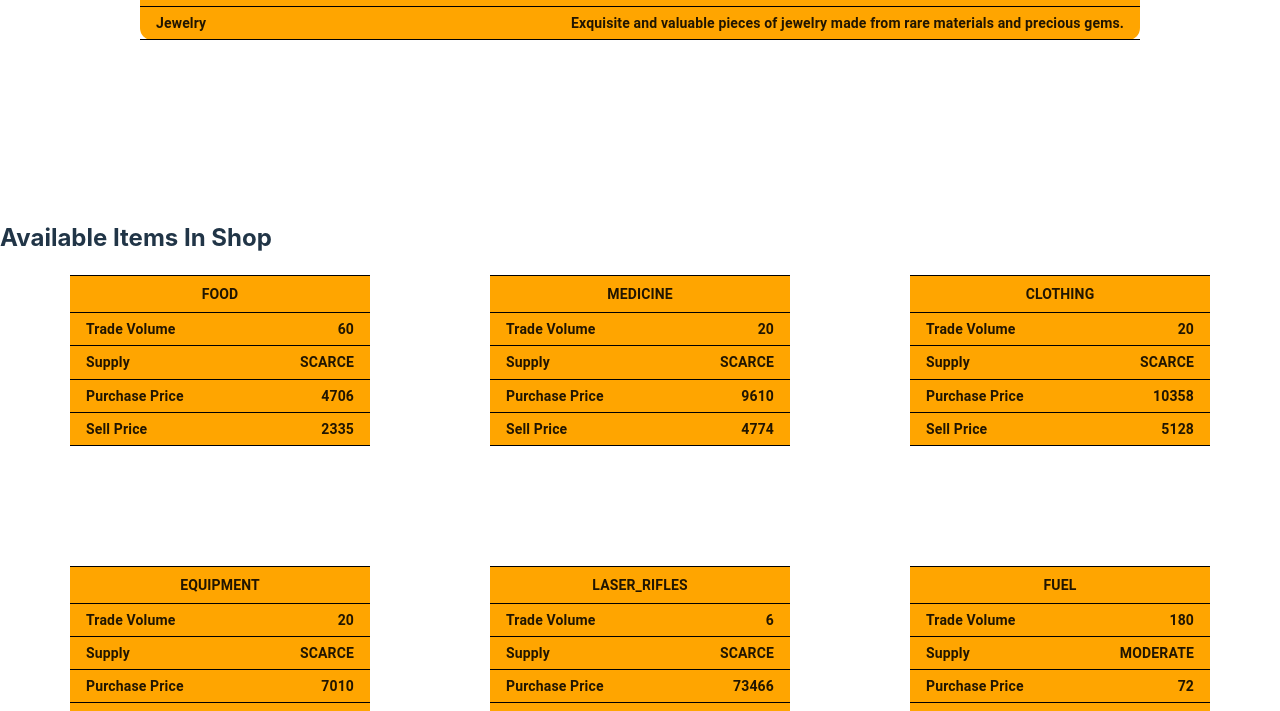
Test case: Should error when trying to buy over the cargo limit
This screenshot has width=1280, height=711.
(page scrolled)
Click the element with test id "market-item-FOOD" at [220, 361], box [70, 276, 370, 446]
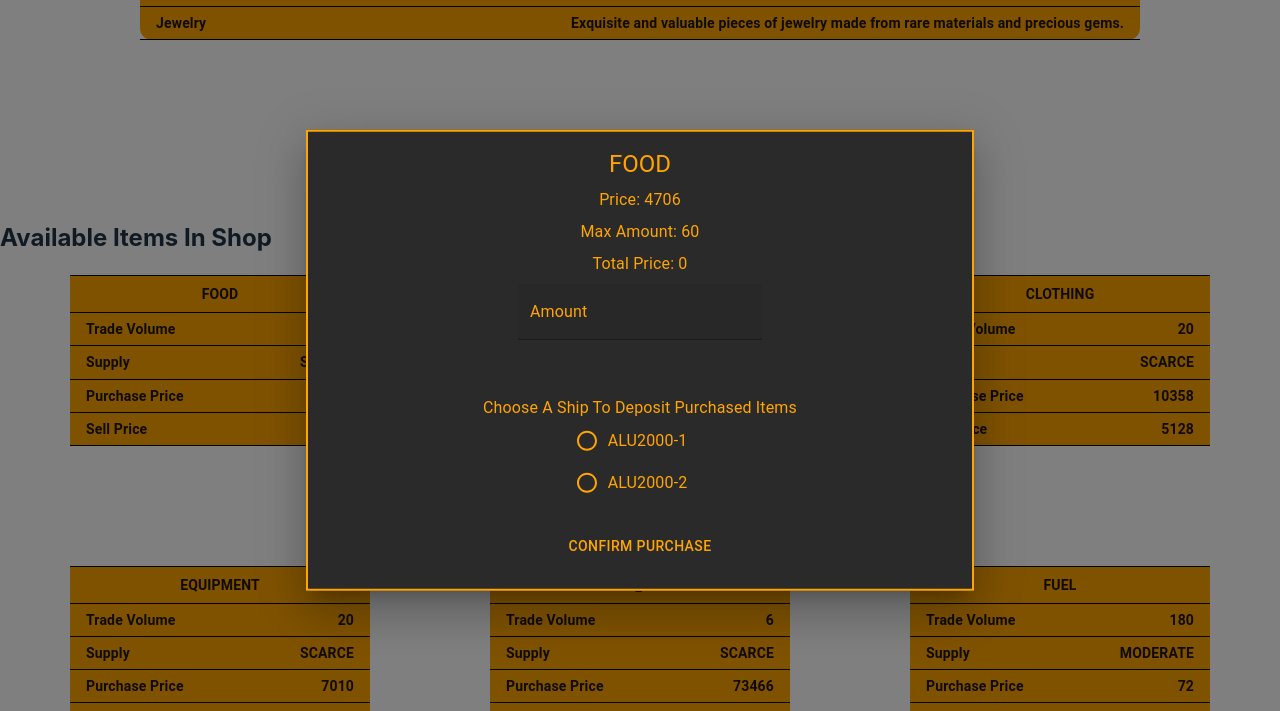
Now the text "Price: 4706" is shown, box [599, 188, 681, 212]
Now the text "Max Amount: 60" is shown, box [580, 220, 700, 244]
Type "5" into the number field labelled "Amount" at [640, 312], box [518, 284, 762, 340]
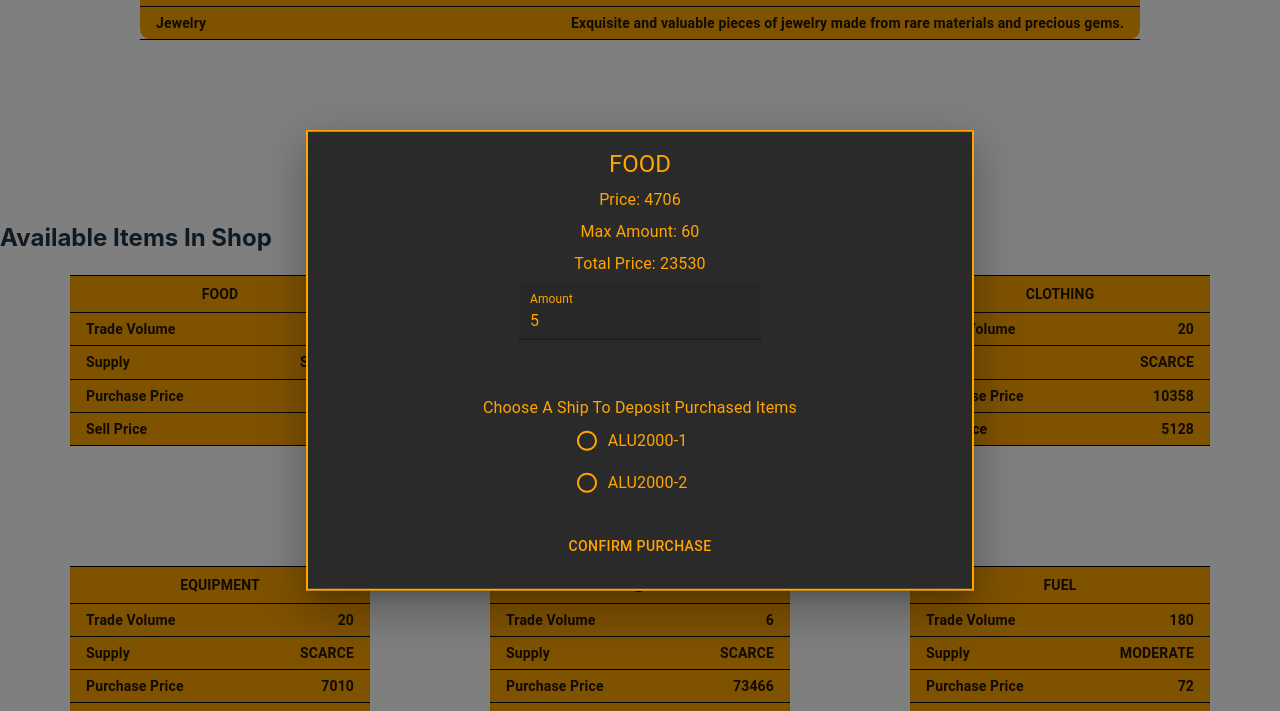
Click the radio button with test id "market-ship-ALU2000-1" at [631, 441], box [575, 429, 687, 453]
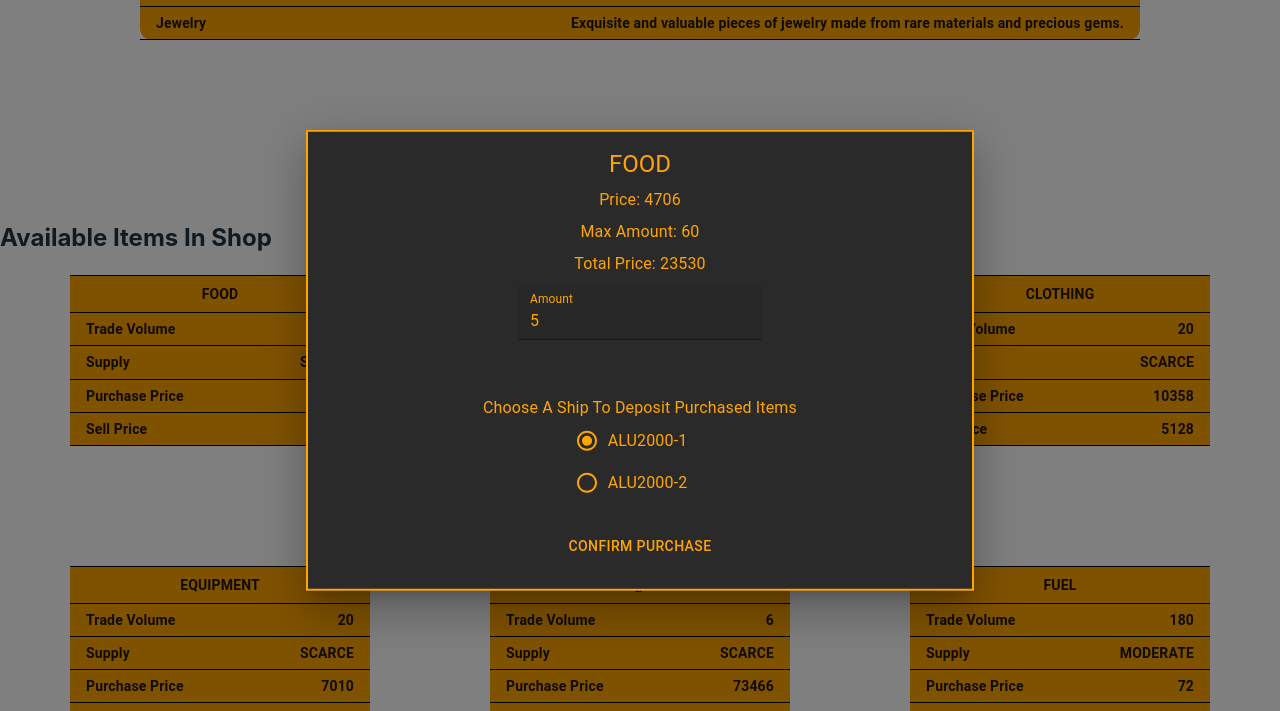
Click the button with test id "purchase-button" at [640, 546], box [560, 528, 720, 564]
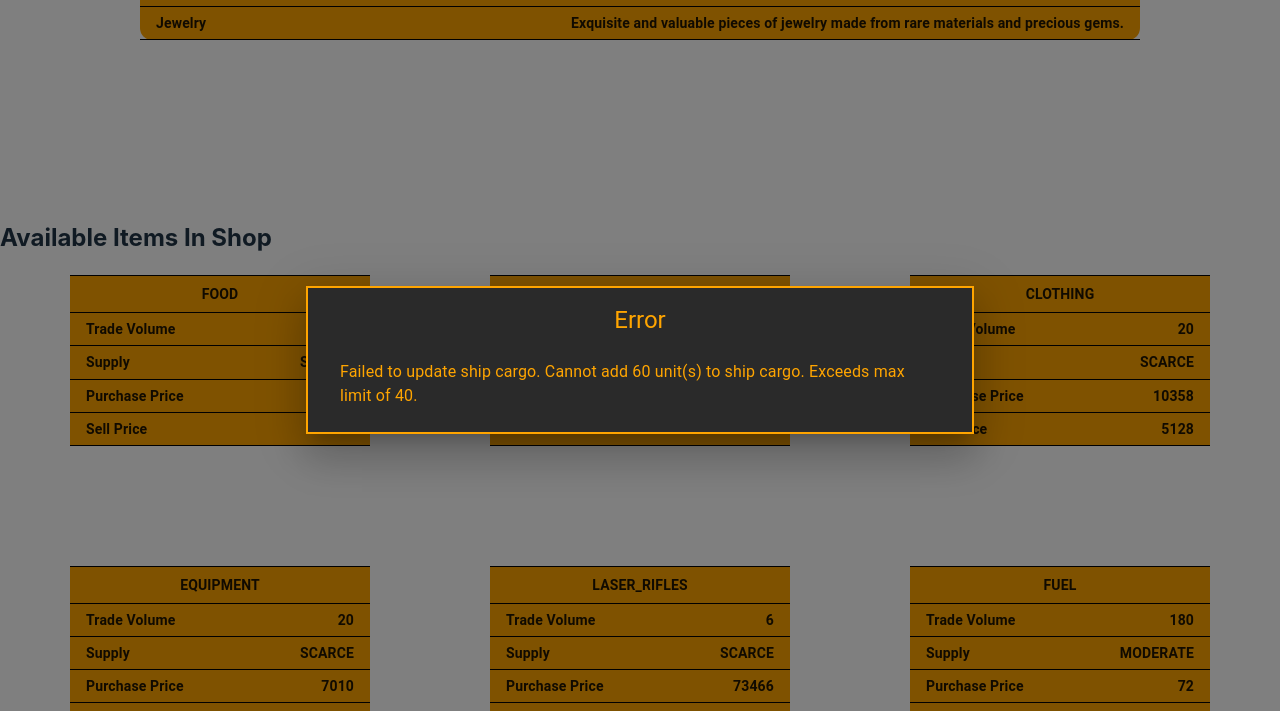
Now the heading "Error" is shown, box [614, 304, 666, 336]
Now the text "Failed to update ship cargo. Cannot add 60 unit(s) to ship cargo. Exceeds max limit of 40." is shown, box [340, 362, 905, 405]
